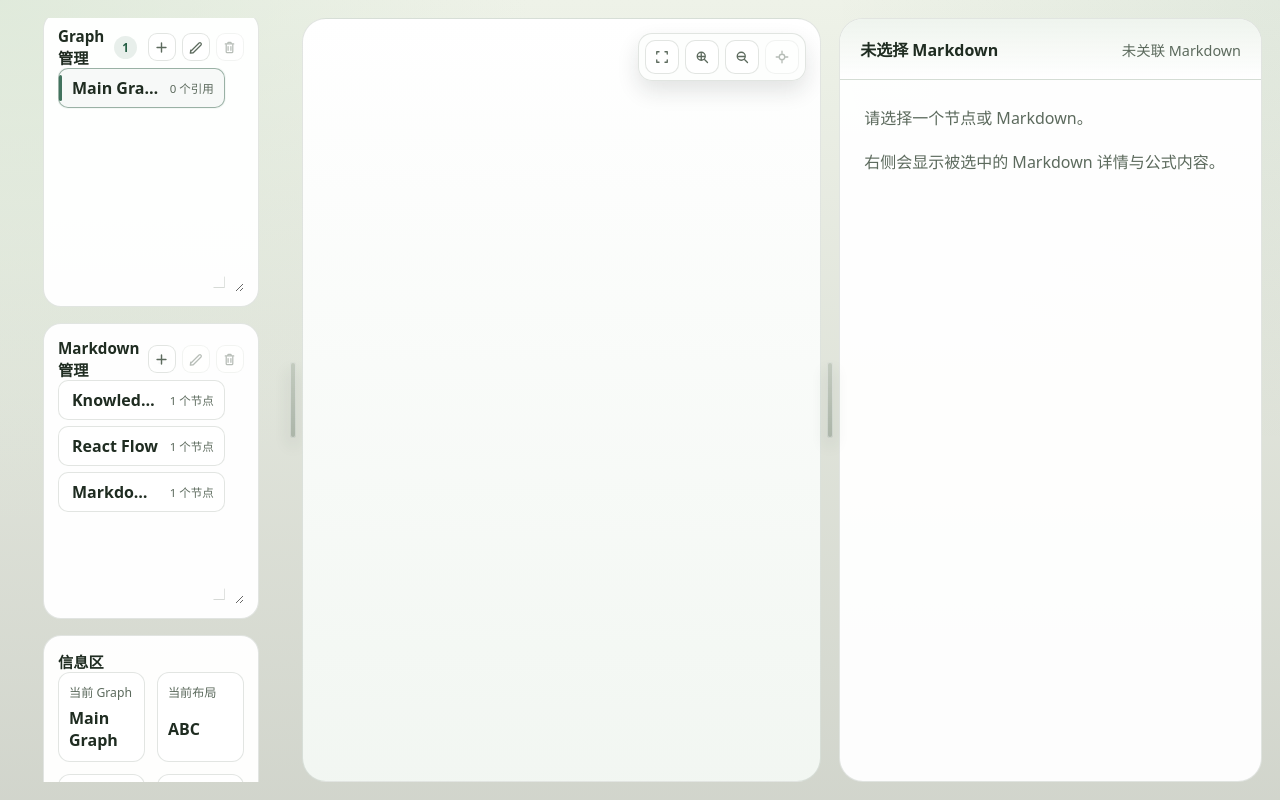
Test case: App › renames and deletes markdowns manually from the toolbar
The width and height of the screenshot is (1280, 800).
(page scrolled)
Double-click the option "Knowledge Graph 1 个节点" at [141, 400], box [58, 380, 225, 420]
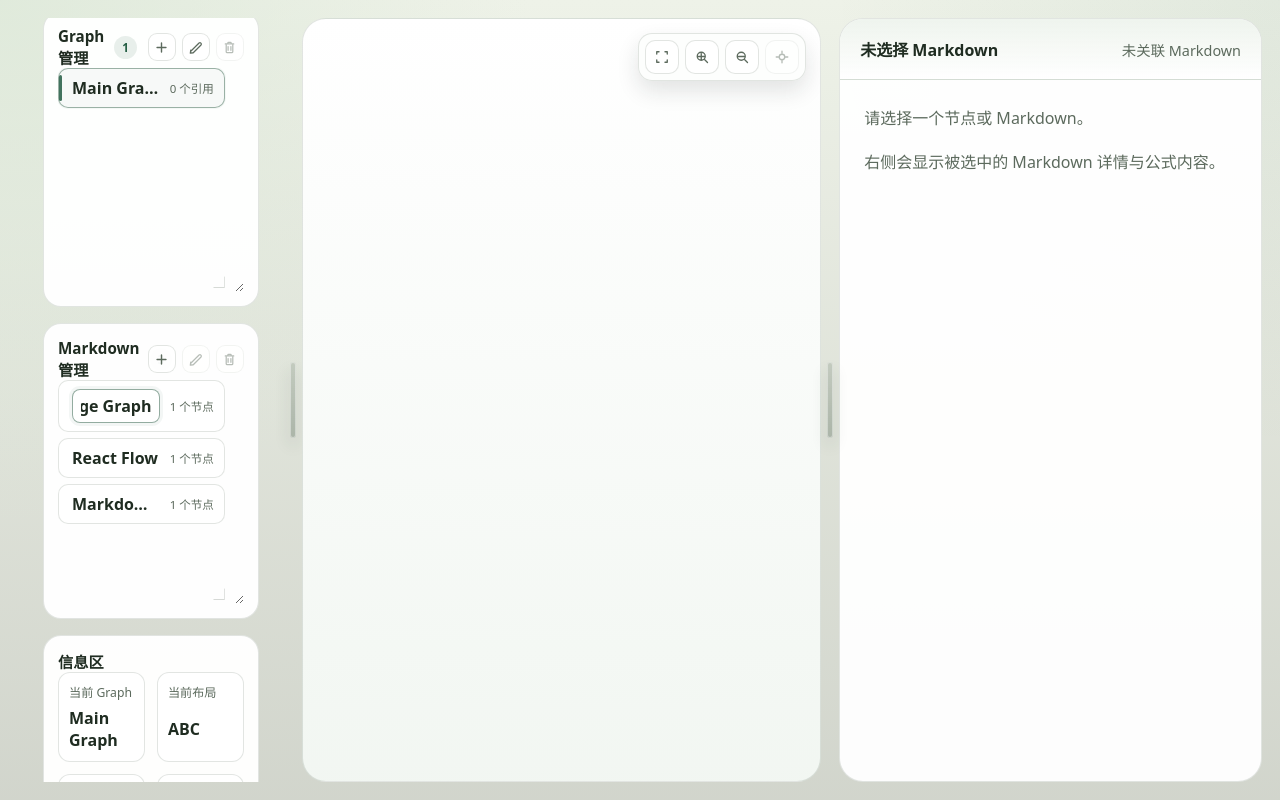
Press Space in the field named "重命名 Markdown", box [72, 389, 160, 423]
Expected: the field named "重命名 Markdown" is shown
Replace the text in the field named "重命名 Markdown" with "Renamed Markdown" at [116, 406], box [72, 389, 160, 423]
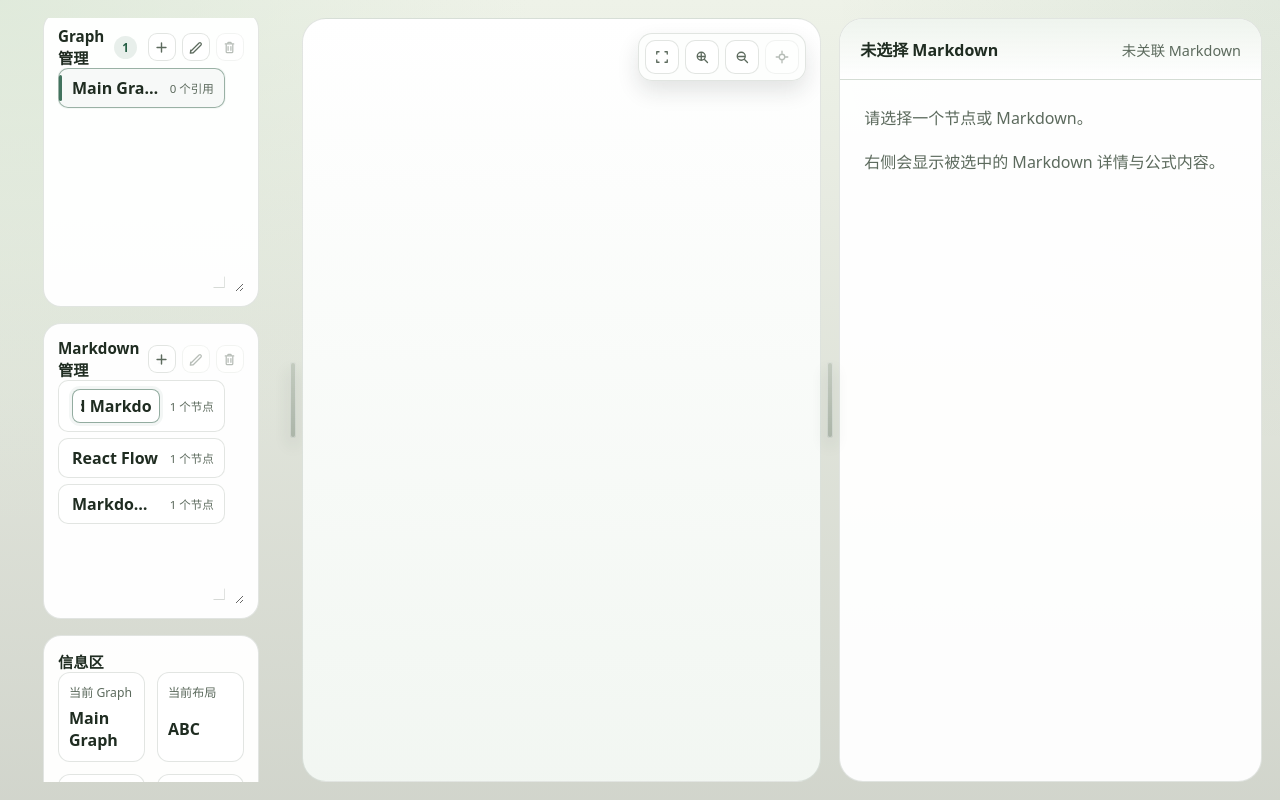
Press Enter in the field named "重命名 Markdown", box [72, 389, 160, 423]
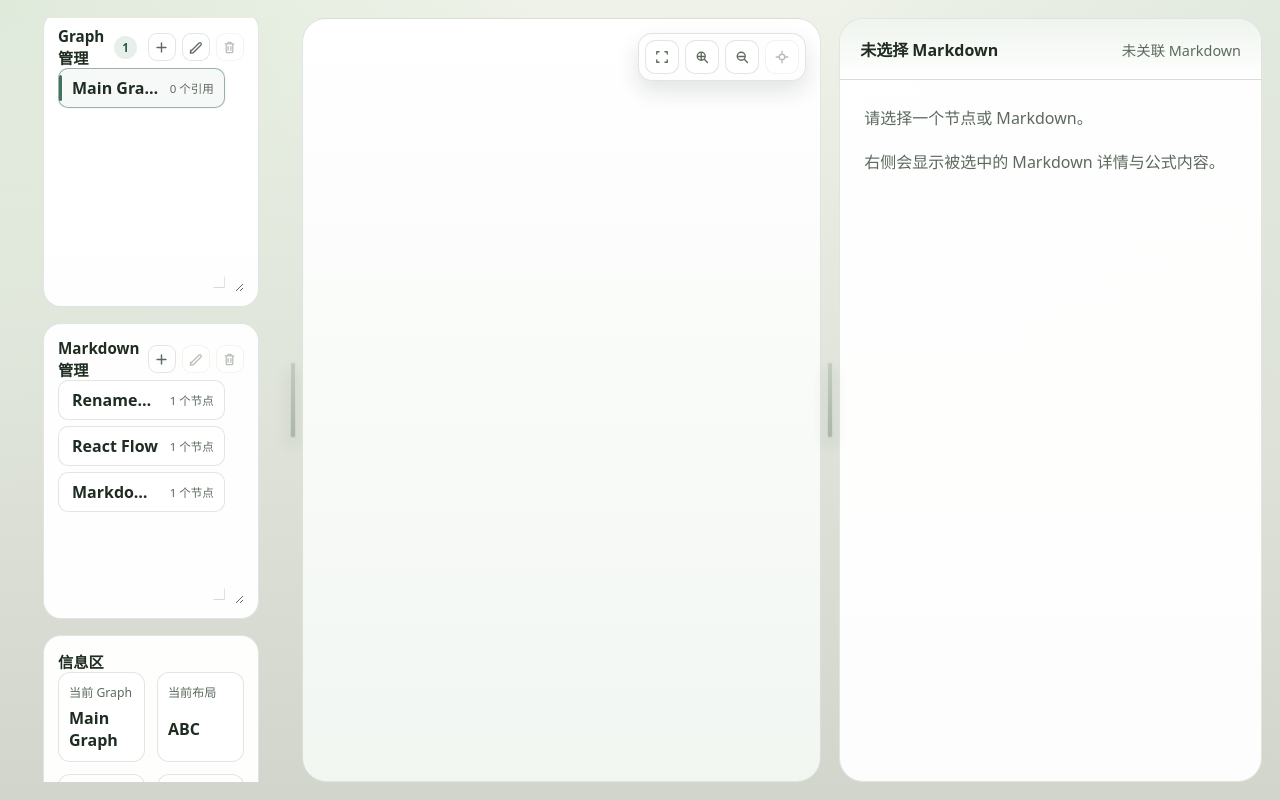
Expected: the text "Renamed Markdown" is shown, [72, 389, 160, 411]
Click the option "Knowledge Graph" at [141, 400], box [58, 380, 225, 420]
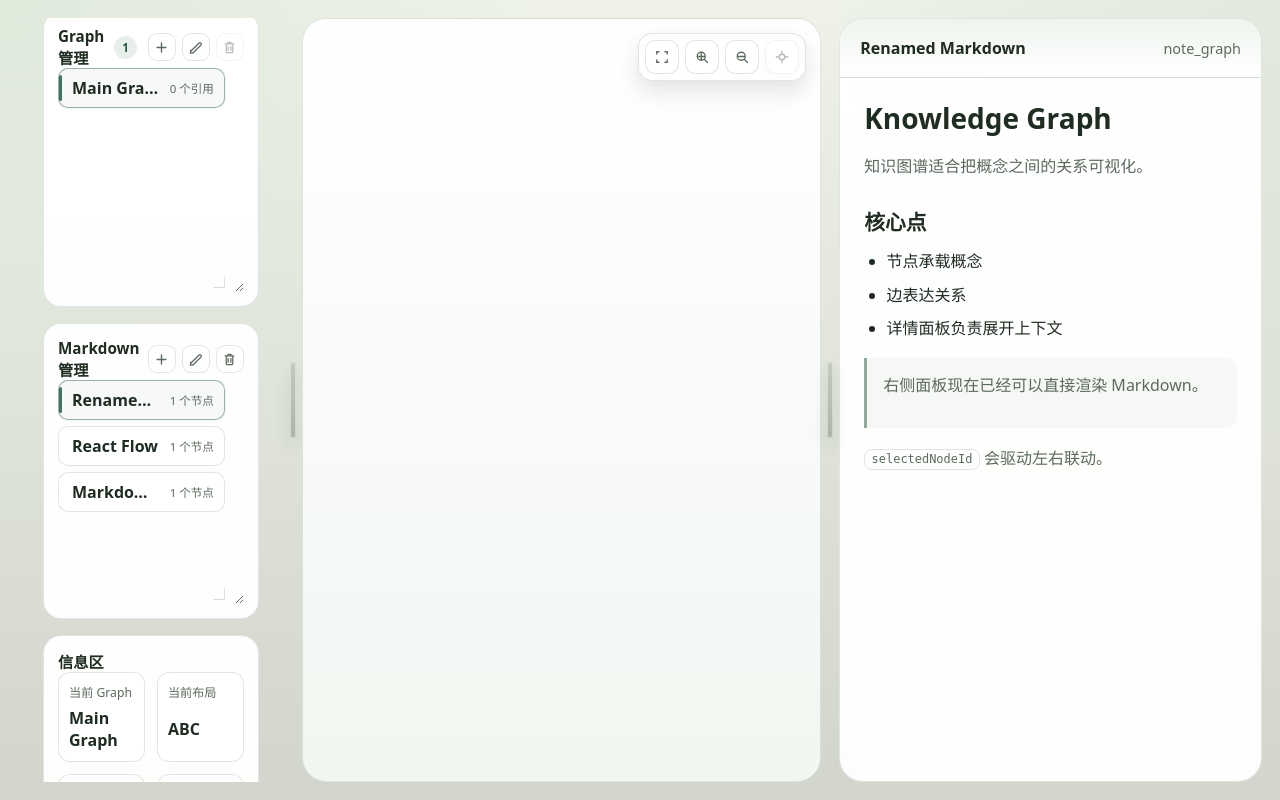
Click the button named "删除当前 Markdown" at [230, 359], box [216, 345, 244, 373]
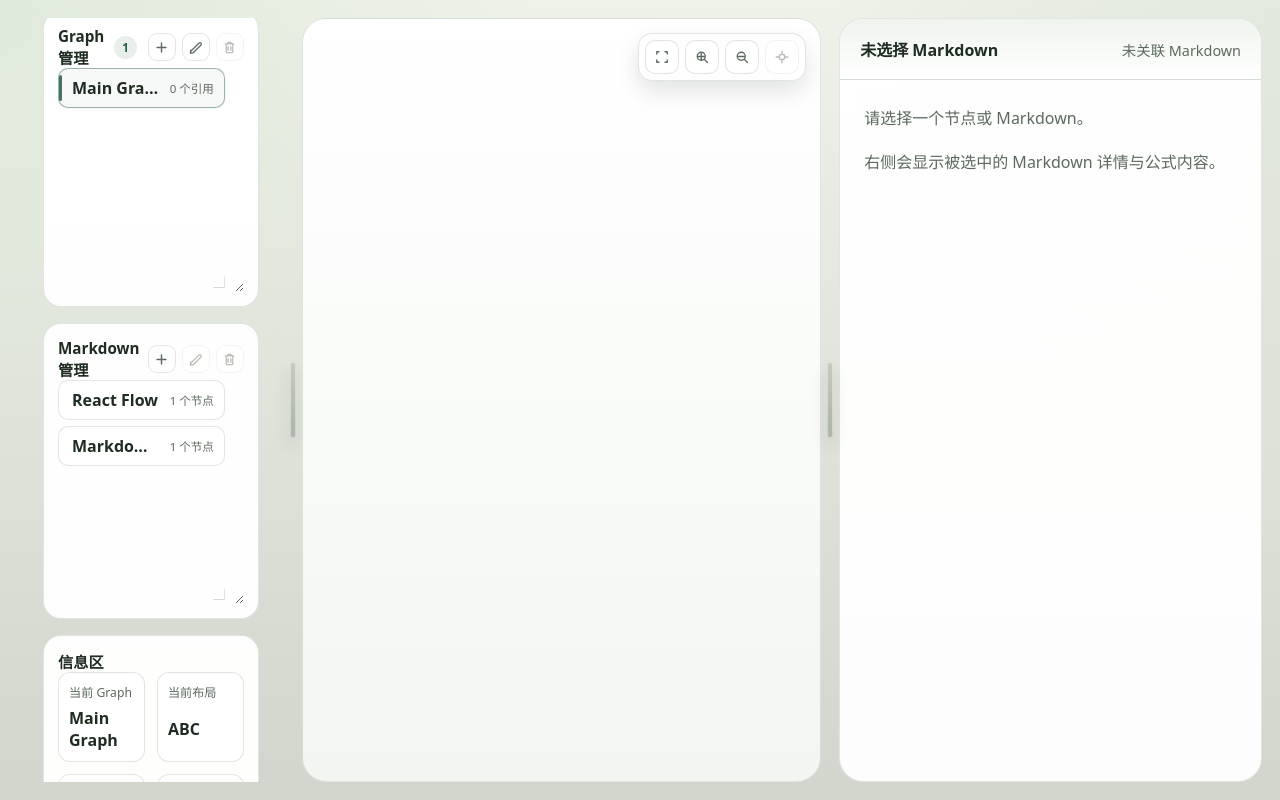
Expected: the option "Renamed Markdown" is gone
